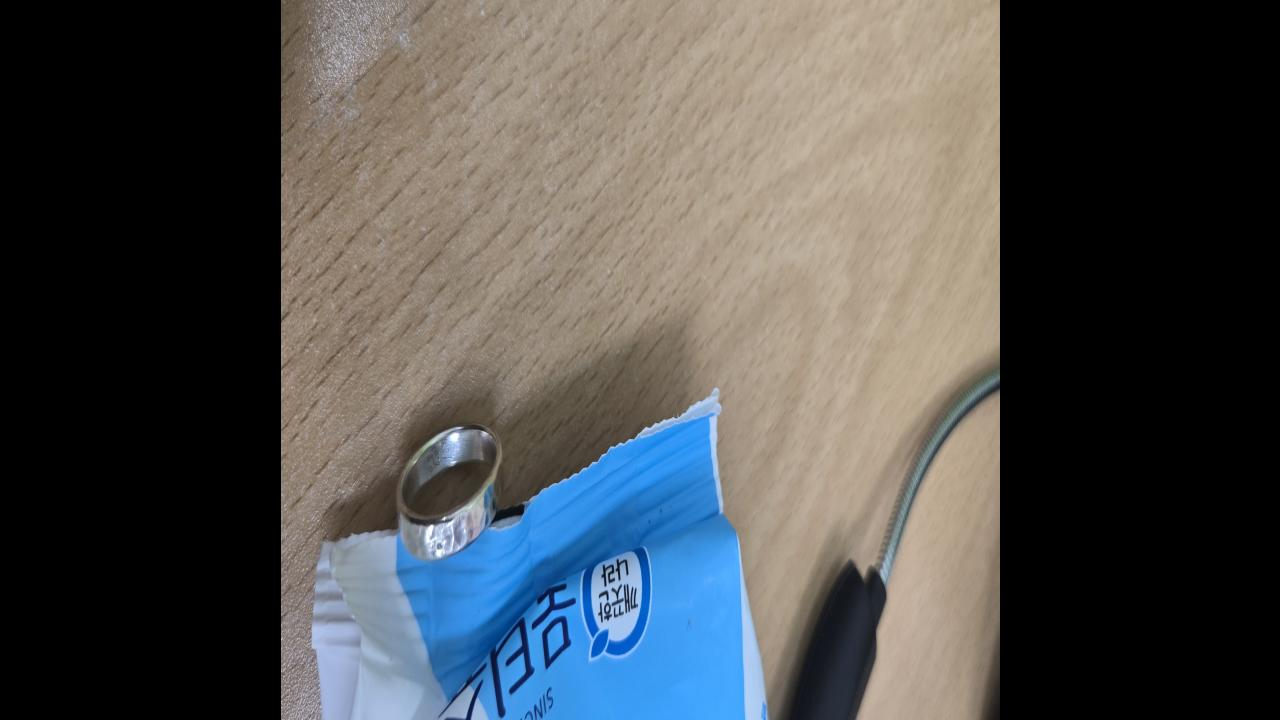ring: (396, 422, 501, 564)
